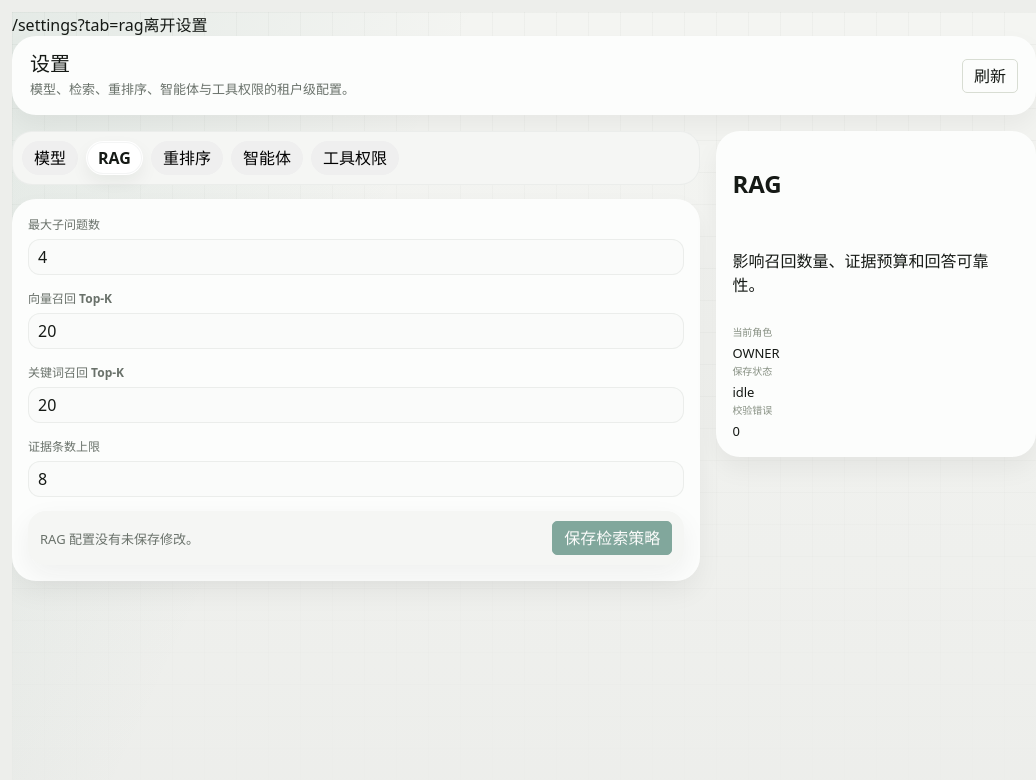
Test: SettingsPage URL tabs and dirty state › restores the active tab from the URL and syncs tab changes back to the URL
Expected: the number field labelled "最大子问题数" is shown, [28, 239, 684, 275]
Expected: the text with test id "location" reads "/settings?tab=rag", [12, 14, 144, 36]
Click the tab "工具权限" at [355, 158], box [311, 141, 399, 175]
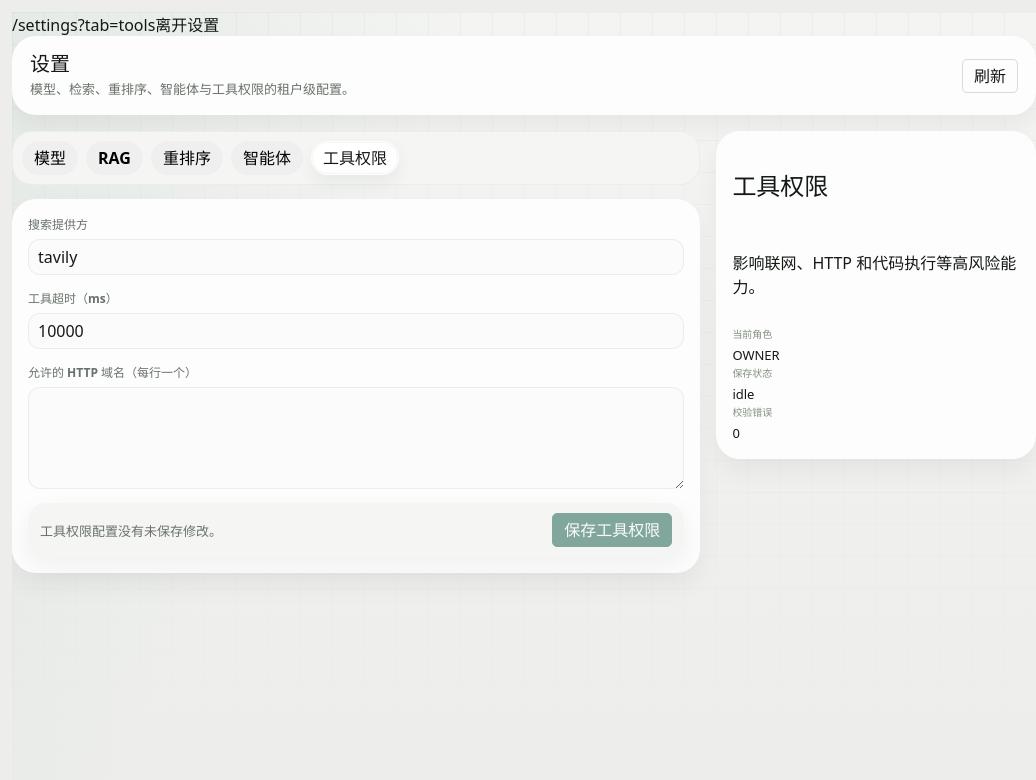
Expected: the text with test id "location" reads "/settings?tab=tools", [12, 14, 155, 36]
